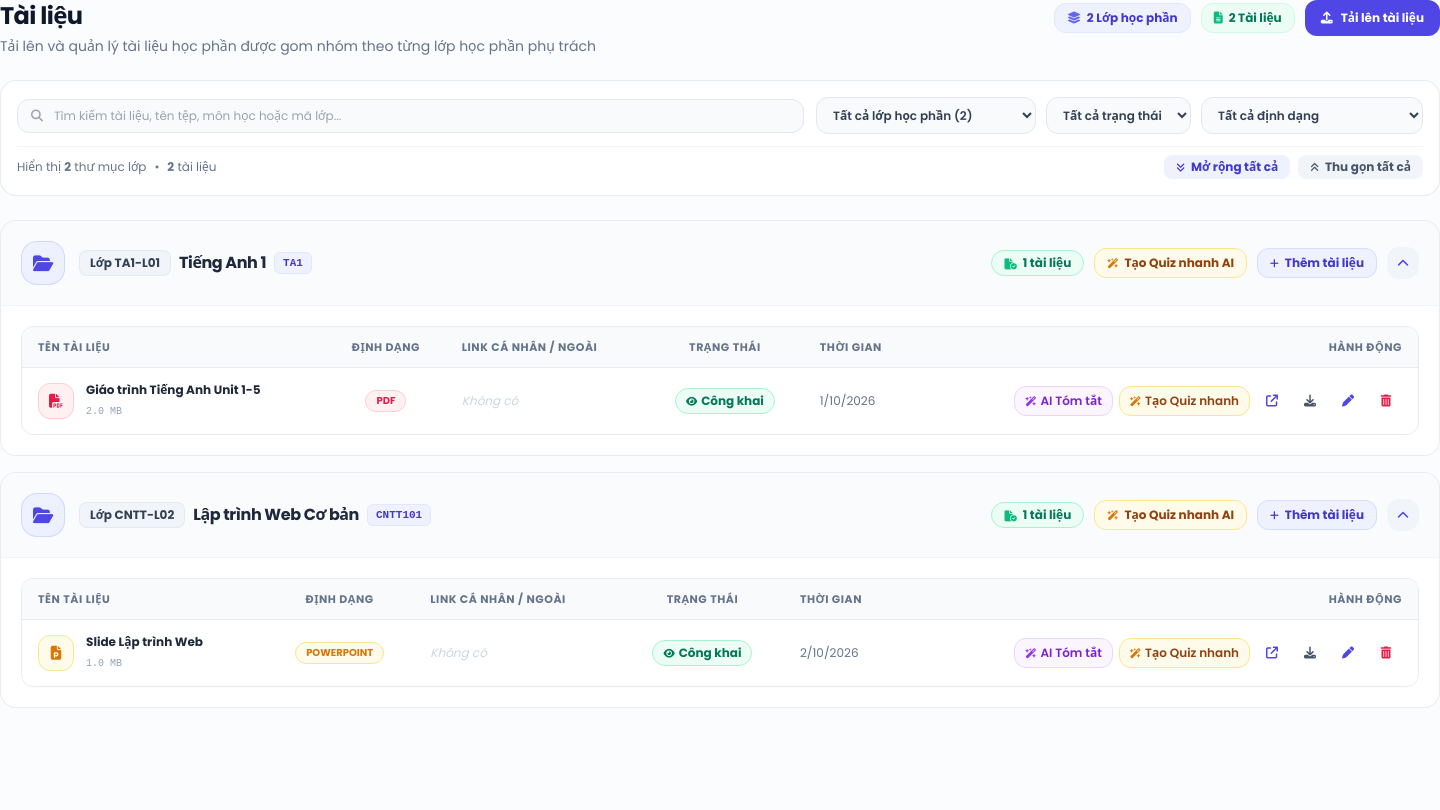
TeacherDocumentList (Grouped by Class) › opens edit modal with existing file info and allows updating without changing file (non-mandatory)
Click the button titled "Chỉnh sửa thông tin & link" in the row of "Giáo trình Tiếng Anh Unit 1-5": [1348, 401] box [1332,385,1364,417]
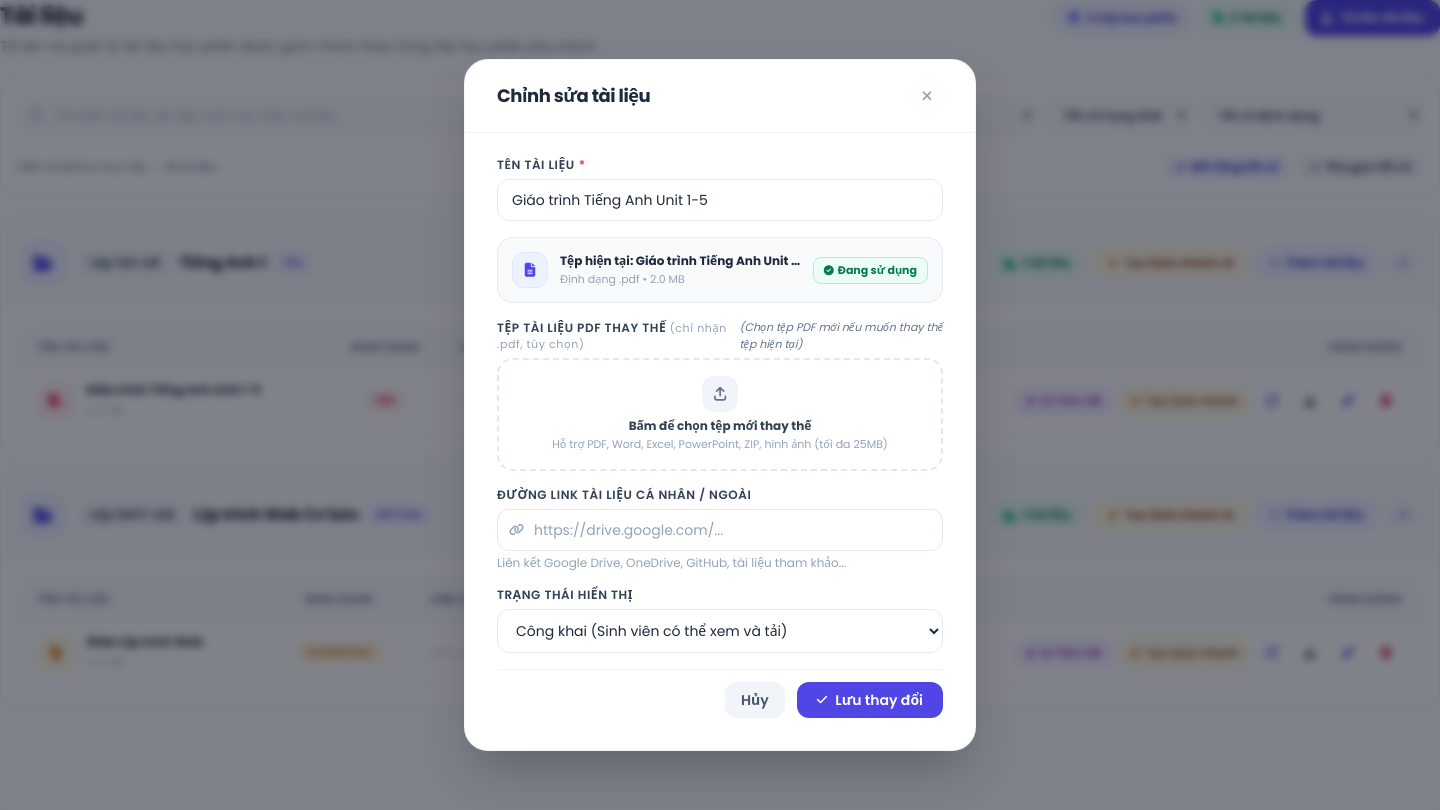
Now the heading "Chỉnh sửa tài liệu" is shown, box [497,82,650,110]
Now the field showing "Giáo trình Tiếng Anh Unit 1-5" is shown, box [497,179,943,221]
Now the text "Tệp hiện tại: Giáo trình Tiếng Anh Unit 1-5" is shown, box [560,253,801,269]
Click the button "Lưu thay đổi": [870, 700] box [797,682,943,718]
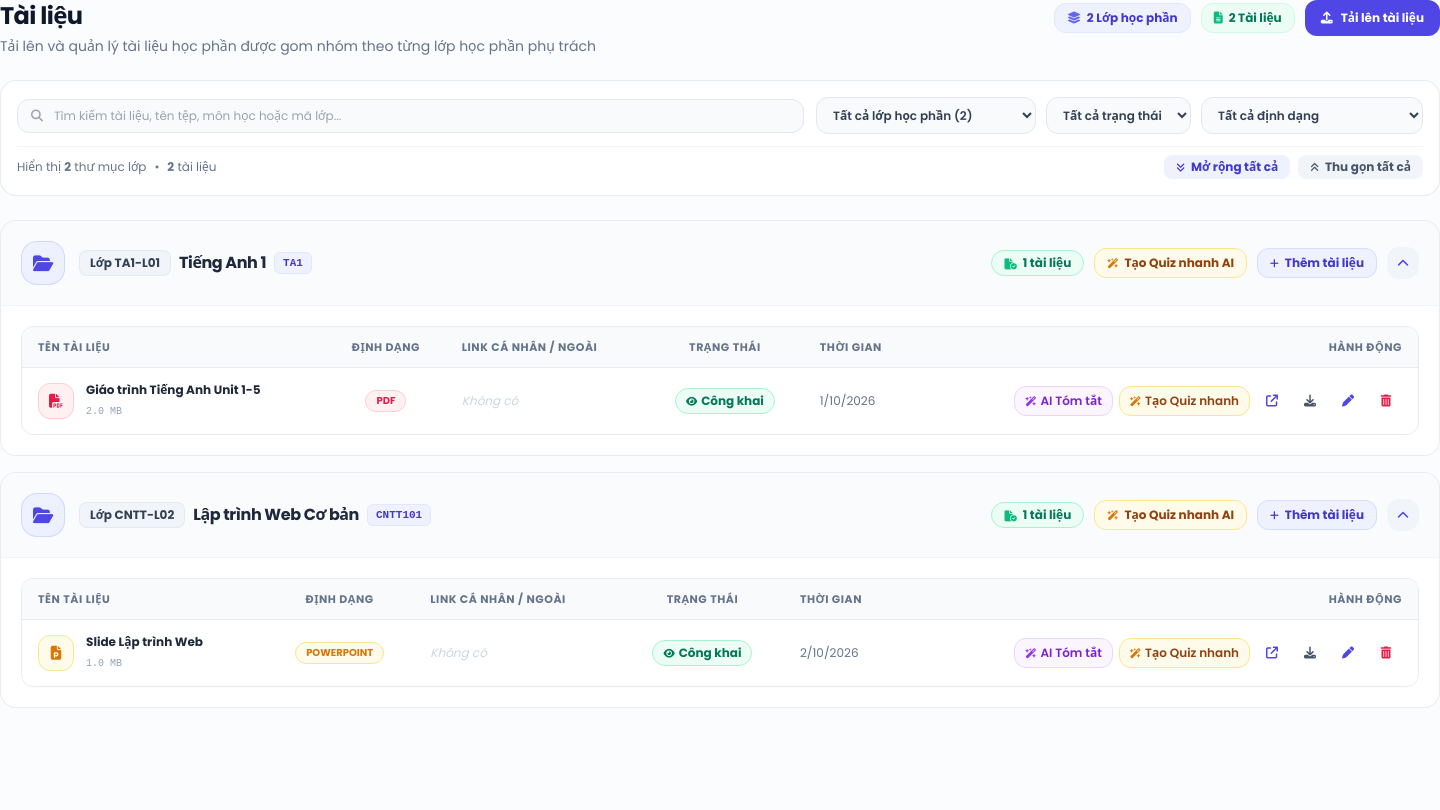
Now the heading "Chỉnh sửa tài liệu" is gone
